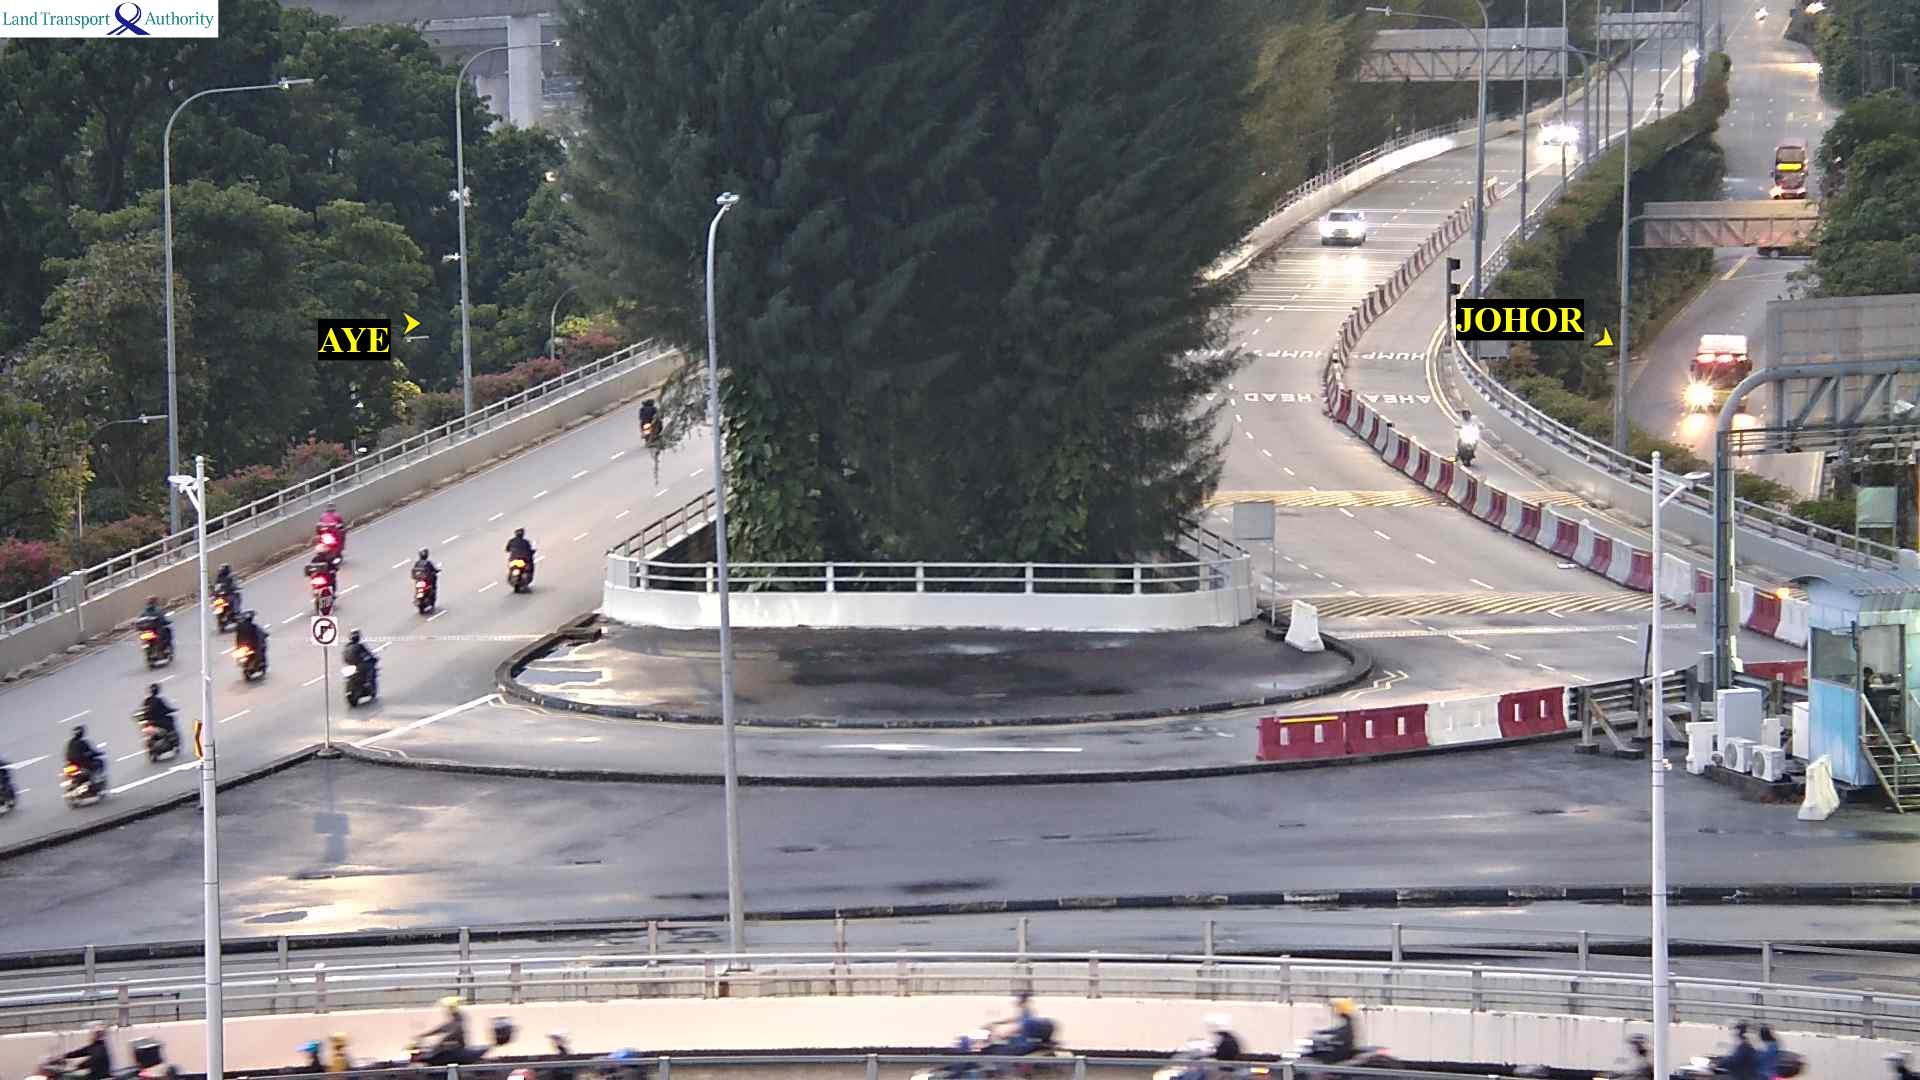vehicle-secondlink-johor: (1317, 202, 1371, 248), (1457, 402, 1482, 467), (1533, 120, 1564, 164)
vehicle-secondlink-singapore: (66, 720, 107, 806), (346, 622, 387, 703), (144, 682, 180, 756), (133, 597, 171, 667), (236, 608, 272, 680), (507, 523, 538, 591), (410, 543, 442, 606), (214, 560, 243, 627), (303, 556, 332, 613), (625, 397, 662, 437), (312, 502, 344, 546)
